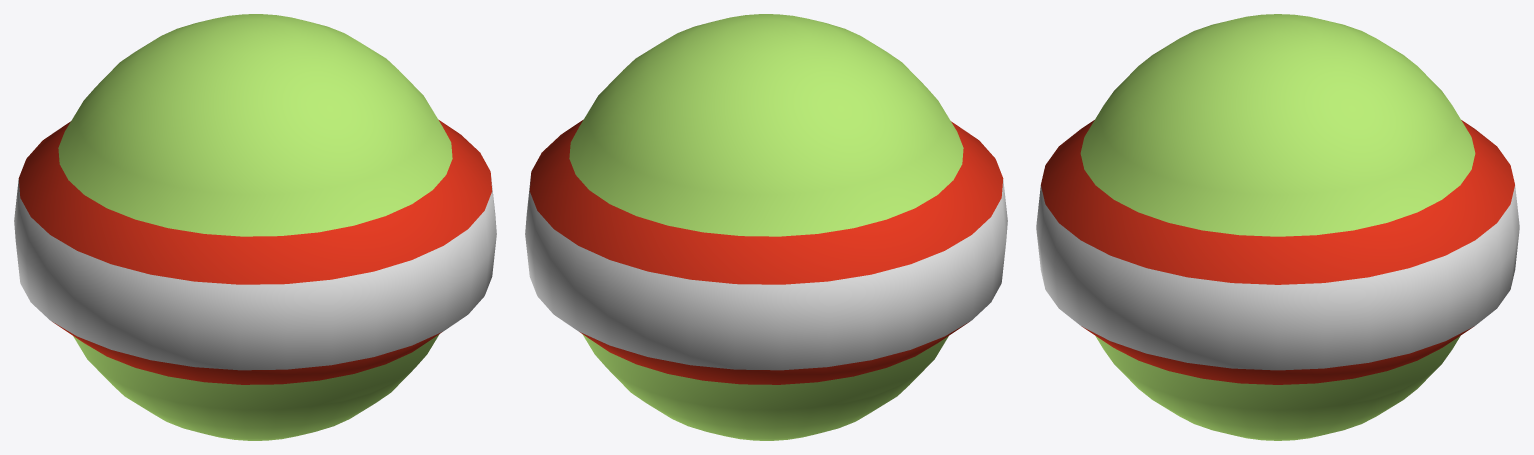
File: planet_base.fbx
3 renders of one model, left to right at view 1: azimuth 30°, elevation 25°; view 2: azimuth 150°, elevation 25°; view 3: azimuth 270°, elevation 25°, orthographic.
Parts seen in each view (by area): view 1: robot; view 2: robot; view 3: robot.
Part boxes in pixels (x1=…): robot: x1=14, y1=14, x2=496, y2=440; robot: x1=525, y1=14, x2=1007, y2=440; robot: x1=1036, y1=14, x2=1519, y2=440.
Bounding box in the file's own units: 1132 × 1000 × 1132.
